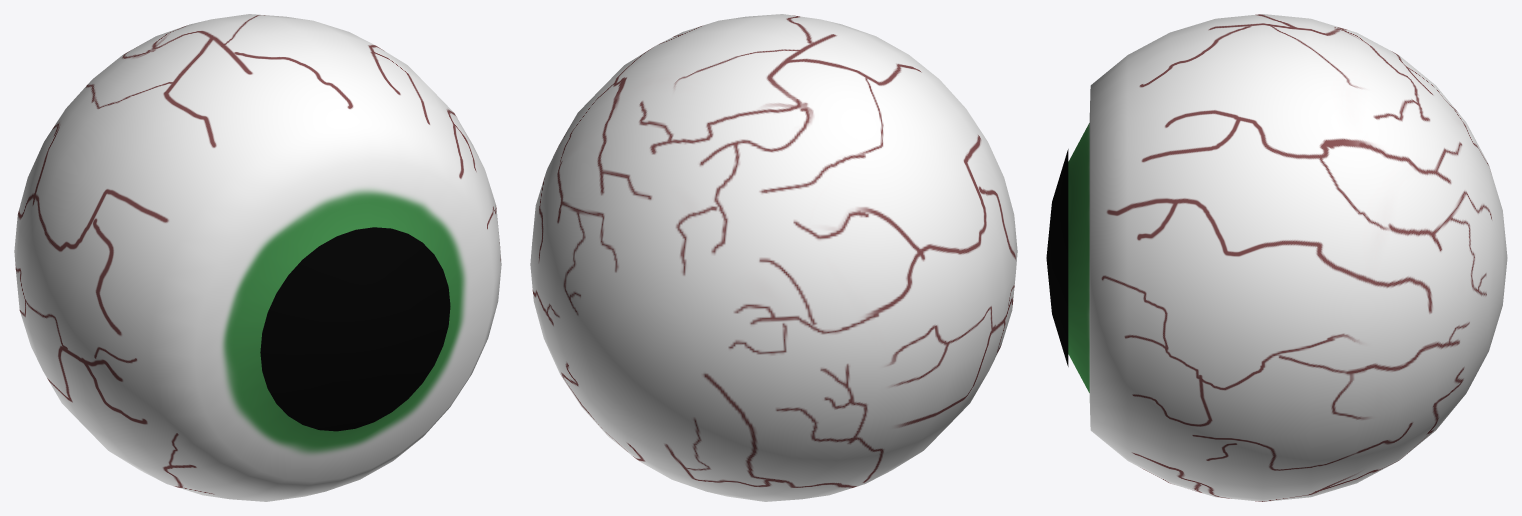
The model's file is eye villain.fbx.
3 views of the same model, side by side, from view 1: azimuth 30°, elevation 25°; view 2: azimuth 150°, elevation 25°; view 3: azimuth 270°, elevation 25° (orthographic).
Parts seen in each view (by area): view 1: Eye; view 2: Eye; view 3: Eye.
Boxes of the visible parts, x1,y1,x2,y2 form: Eye: [14, 14, 501, 501]; Eye: [530, 14, 1017, 501]; Eye: [1046, 14, 1507, 501].
Bounding box in the file's own units: 213 × 213 × 201.
Materials: 2 (1 with a texture image).
